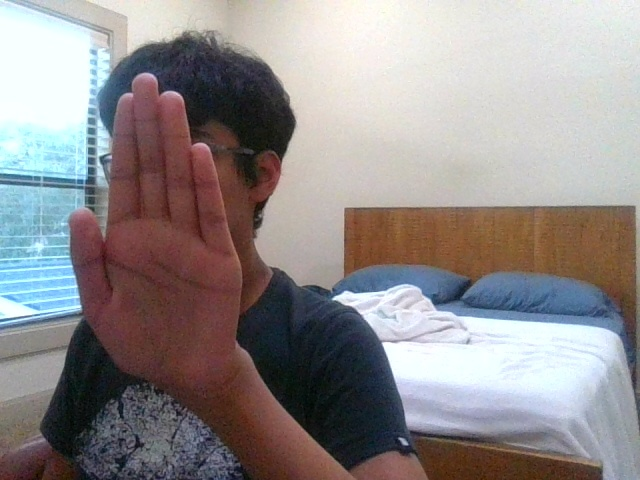hello: (69, 73, 243, 378)
